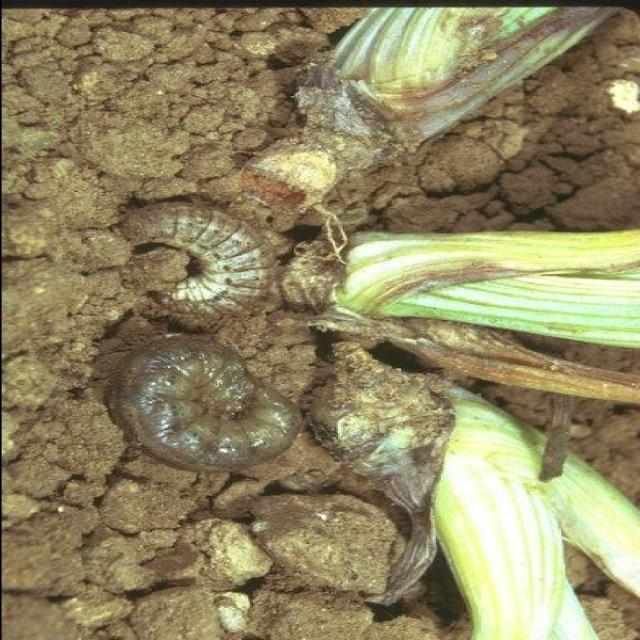black cutworm: (108, 339, 296, 470), (127, 198, 290, 335)
